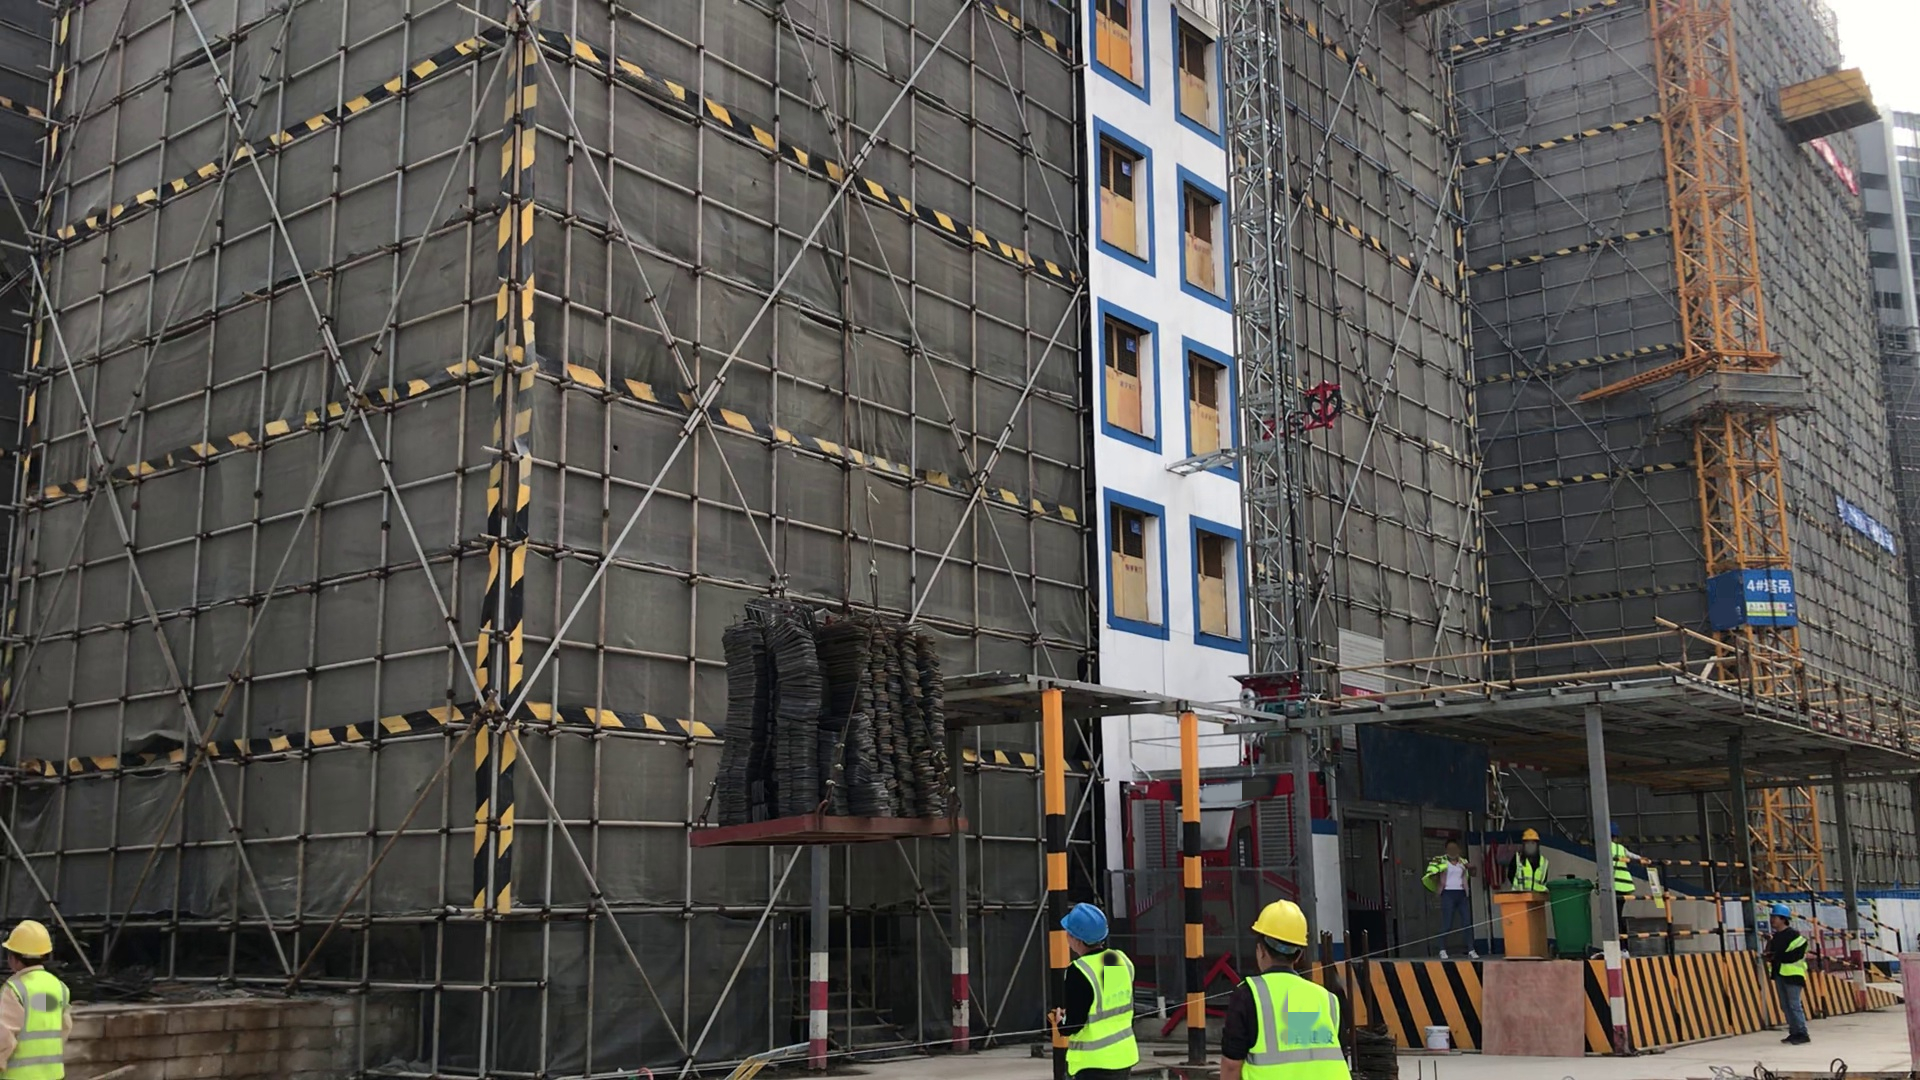helmet: (1248, 888, 1317, 950), (1, 918, 65, 966), (1061, 895, 1117, 949), (1766, 891, 1798, 926), (1512, 820, 1550, 847)
person: (1221, 901, 1360, 1080), (1043, 895, 1145, 1080), (2, 912, 81, 1080), (1754, 903, 1831, 1050), (1420, 839, 1483, 958), (1506, 826, 1562, 920), (1609, 823, 1651, 939)
vest: (1232, 964, 1346, 1080), (1059, 947, 1146, 1077), (8, 970, 67, 1080), (1604, 835, 1643, 906), (1771, 934, 1819, 985), (1419, 853, 1469, 901), (1511, 847, 1552, 896)
